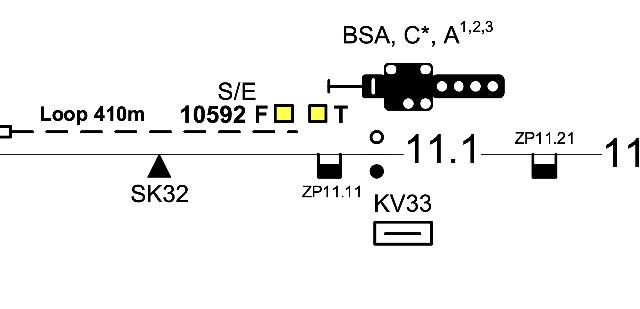radzaehler: (526, 148, 562, 184)
tracknumber: (404, 124, 481, 174)
